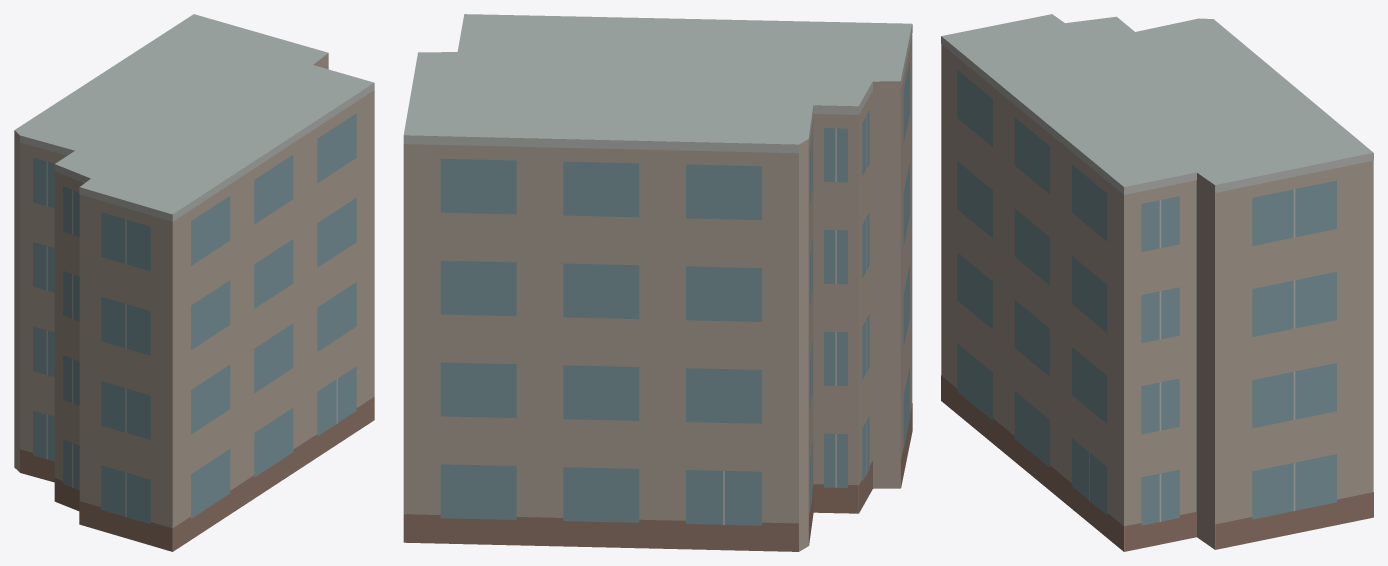
The model's file is survey-upis-32693598.glb.
The picture shows the model from 3 angles, left to right: view 1: azimuth 30°, elevation 25°; view 2: azimuth 150°, elevation 25°; view 3: azimuth 270°, elevation 25°; orthographic projection. The views are drawn at different scales.
Parts seen in each view (by area): view 1: survey-upis-32693598.tmp; view 2: survey-upis-32693598.tmp; view 3: survey-upis-32693598.tmp.
Boxes of the visible parts, left/top/right/bottom form: survey-upis-32693598.tmp: left=14, top=14, right=374, bottom=551; survey-upis-32693598.tmp: left=403, top=14, right=912, bottom=551; survey-upis-32693598.tmp: left=941, top=14, right=1373, bottom=551.
Size of the model in its own units: 11.62 by 11.4 by 12.27.
